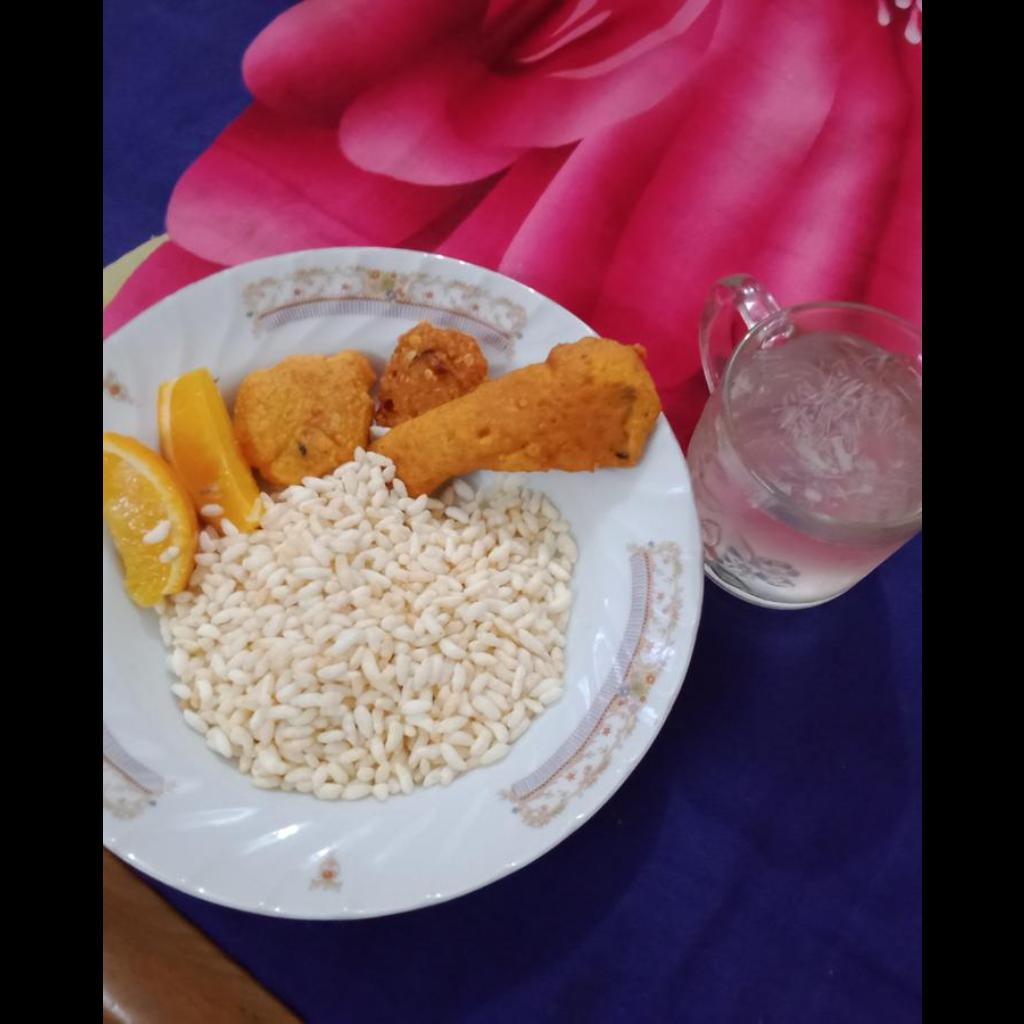beguni: (372, 337, 658, 493)
chop-alu: (235, 347, 373, 479)
juice: (723, 335, 920, 526)
orange: (102, 369, 264, 608)
piyaju: (375, 321, 487, 427)
puffed-rice: (160, 448, 575, 800)
